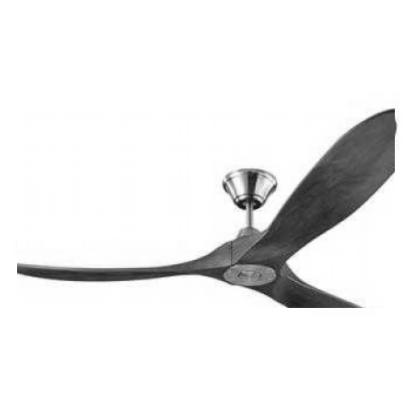ceiling-fan: (17, 107, 396, 309)
